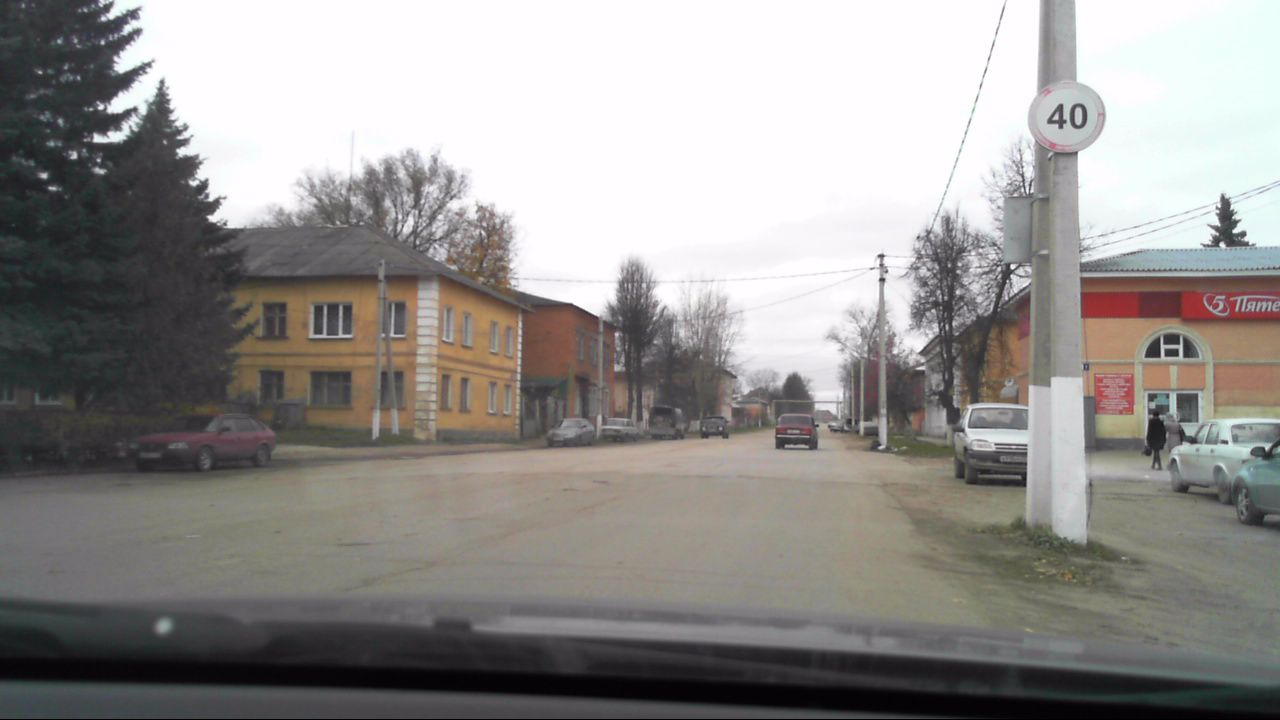speed_warning_40: (1028, 79, 1106, 157)
